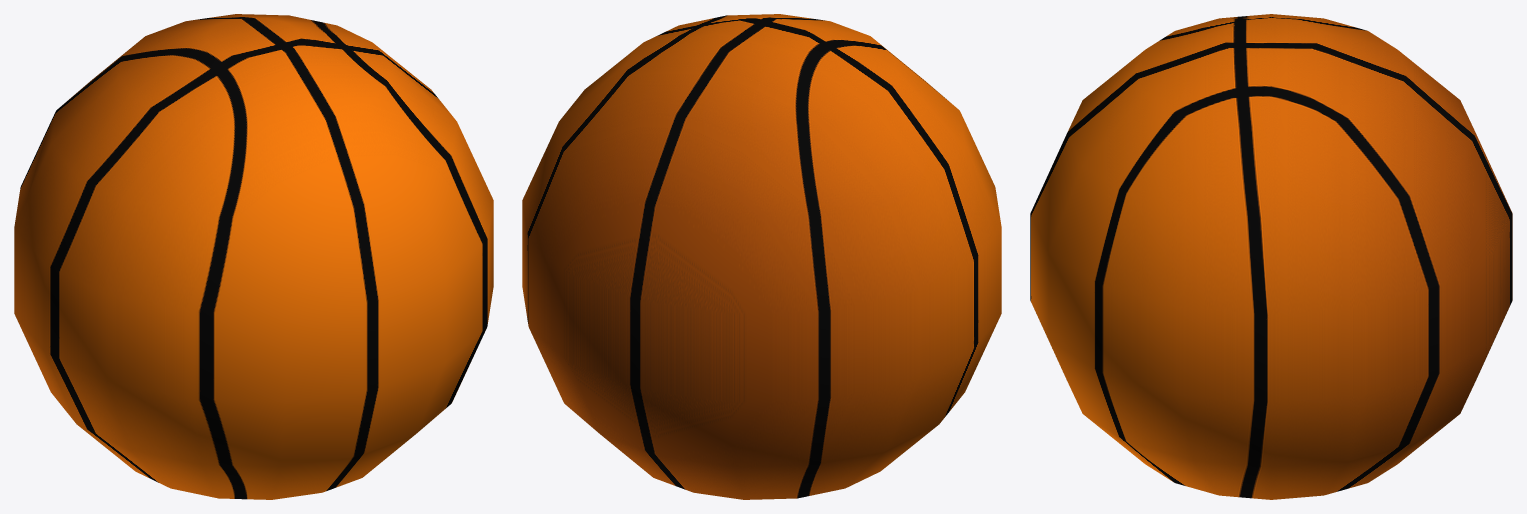
Rendered from BasketBall.fbx.
3 renders of one model, left to right at view 1: azimuth 30°, elevation 25°; view 2: azimuth 150°, elevation 25°; view 3: azimuth 270°, elevation 25°, orthographic.
Parts seen in each view (by area): view 1: BasketBall1; view 2: BasketBall1; view 3: BasketBall1.
Boxes of the visible parts, x1,y1,x2,y2 form: BasketBall1: [14, 14, 493, 499]; BasketBall1: [522, 14, 1001, 499]; BasketBall1: [1030, 14, 1512, 499].
Bounding box in the file's own units: 196 × 196 × 196.
Materials: 1 (1 with a texture image).
